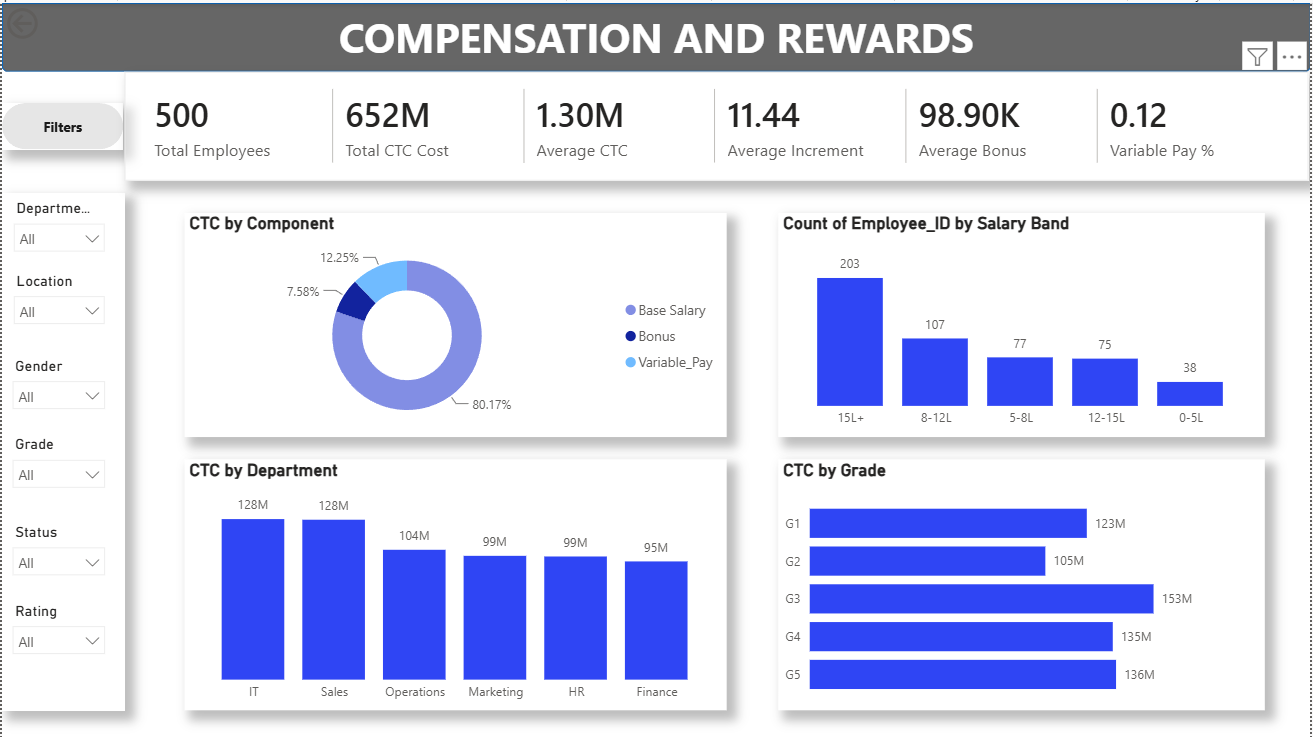

The dashboard page shown, as its layout file describes it:
{"tool":"powerbi","page":{"name":"Page 1","canvas":[1280,720],"ordinal":0},"visuals":[{"type":"shape","box":[0,0,1280.3,67.3],"z":0},{"type":"shape","box":[0,185.9,119.8,506.3],"z":1000},{"type":"shape","box":[0,97.8,118.6,45.2],"z":2000},{"type":"slicer","fields":{"Values":["Employee_Master.Department"]},"box":[1.4,187.1,109.3,65.7],"z":3000},{"type":"slicer","fields":{"Values":["Employee_Master.Location"]},"box":[1.4,257.9,109.3,65.7],"z":4000},{"type":"slicer","fields":{"Values":["Employee_Master.Gender"]},"box":[0,341.4,110.7,66.4],"z":5000},{"type":"slicer","fields":{"Values":["Employee_Master.Grade"]},"box":[0,418.6,110.7,65.7],"z":6000},{"type":"slicer","fields":{"Values":["Employee_Master.Employment_Status"]},"box":[0,503.6,110.7,65.7],"z":7000},{"type":"slicer","fields":{"Values":["Employee_Master.Performance_Rating"]},"box":[0,580.7,110.7,65.7],"z":8000},{"type":"cardVisual","fields":{"Data":["Employee_Master.Total Employees","Employee_Master.Total CTC Cost","Employee_Master.Average CTC","Employee_Master.Average Increment","Employee_Master.Average Bonus","Attendance.Variable Pay %"]},"box":[119.8,67.3,1158,106.4],"z":9000},{"type":"donutChart","title":"CTC by Component","fields":{"Y":["Sum(Employee_Master.Base_Salary)","Sum(Employee_Master.Bonus)","Sum(Employee_Master.Variable_Pay)"]},"box":[178.5,205.4,530.7,218.9],"z":10000},{"type":"clusteredBarChart","title":"CTC by Grade","fields":{"Category":["Employee_Master.Grade"],"Y":["Sum(Employee_Master.Total_CTC)"]},"box":[759.4,446.3,475.7,245.8],"z":11000},{"type":"clusteredColumnChart","title":"CTC by Department","fields":{"Category":["Employee_Master.Department"],"Y":["Sum(Employee_Master.Total_CTC)"]},"box":[178.5,446.3,530.7,245.8],"z":12000},{"type":"clusteredColumnChart","fields":{"Category":["Employee_Master.Salary Band"],"Y":["Count(Employee_Master.Employee_ID)"]},"box":[759.4,205.4,475.7,218.9],"z":13000},{"type":"actionButton","box":[0,0,100,40],"z":15000}]}

Visuals, with their boxes in screenshot pixels (x1, y1, x2, y2), scaled from the page's 1280x720 canvas onto the 1313x737 screenshot:
shape: <bbox>0, 0, 1312, 69</bbox>
shape: <bbox>0, 190, 123, 709</bbox>
shape: <bbox>0, 100, 122, 146</bbox>
slicer - Employee_Master.Department: <bbox>1, 192, 114, 259</bbox>
slicer - Employee_Master.Location: <bbox>1, 264, 114, 331</bbox>
slicer - Employee_Master.Gender: <bbox>0, 349, 114, 417</bbox>
slicer - Employee_Master.Grade: <bbox>0, 428, 114, 496</bbox>
slicer - Employee_Master.Employment_Status: <bbox>0, 515, 114, 583</bbox>
slicer - Employee_Master.Performance_Rating: <bbox>0, 594, 114, 662</bbox>
cardVisual - Employee_Master.Total Employees x Employee_Master.Total CTC Cost: <bbox>123, 69, 1311, 178</bbox>
"CTC by Component" donutChart: <bbox>183, 210, 727, 434</bbox>
"CTC by Grade" clusteredBarChart: <bbox>779, 457, 1267, 708</bbox>
"CTC by Department" clusteredColumnChart: <bbox>183, 457, 727, 708</bbox>
clusteredColumnChart - Employee_Master.Salary Band x Count(Employee_Master.Employee_ID): <bbox>779, 210, 1267, 434</bbox>
actionButton: <bbox>0, 0, 103, 41</bbox>
